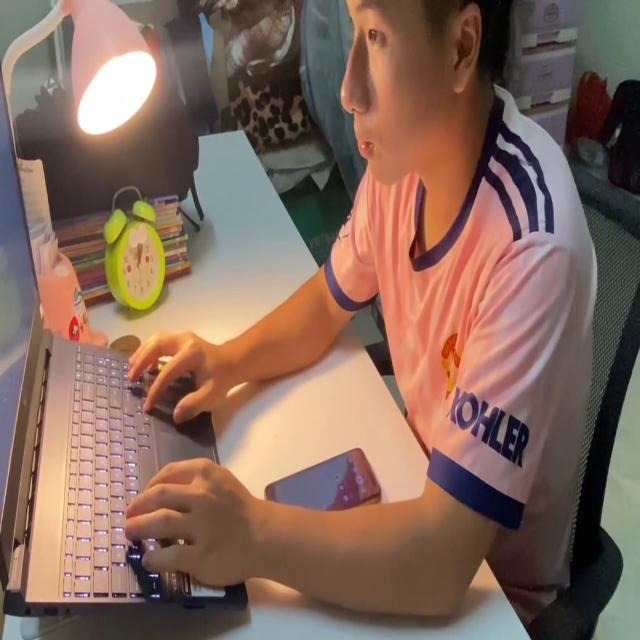laptop: (0, 51, 252, 624)
phone: (259, 438, 384, 517)
student: (122, 0, 606, 626)
